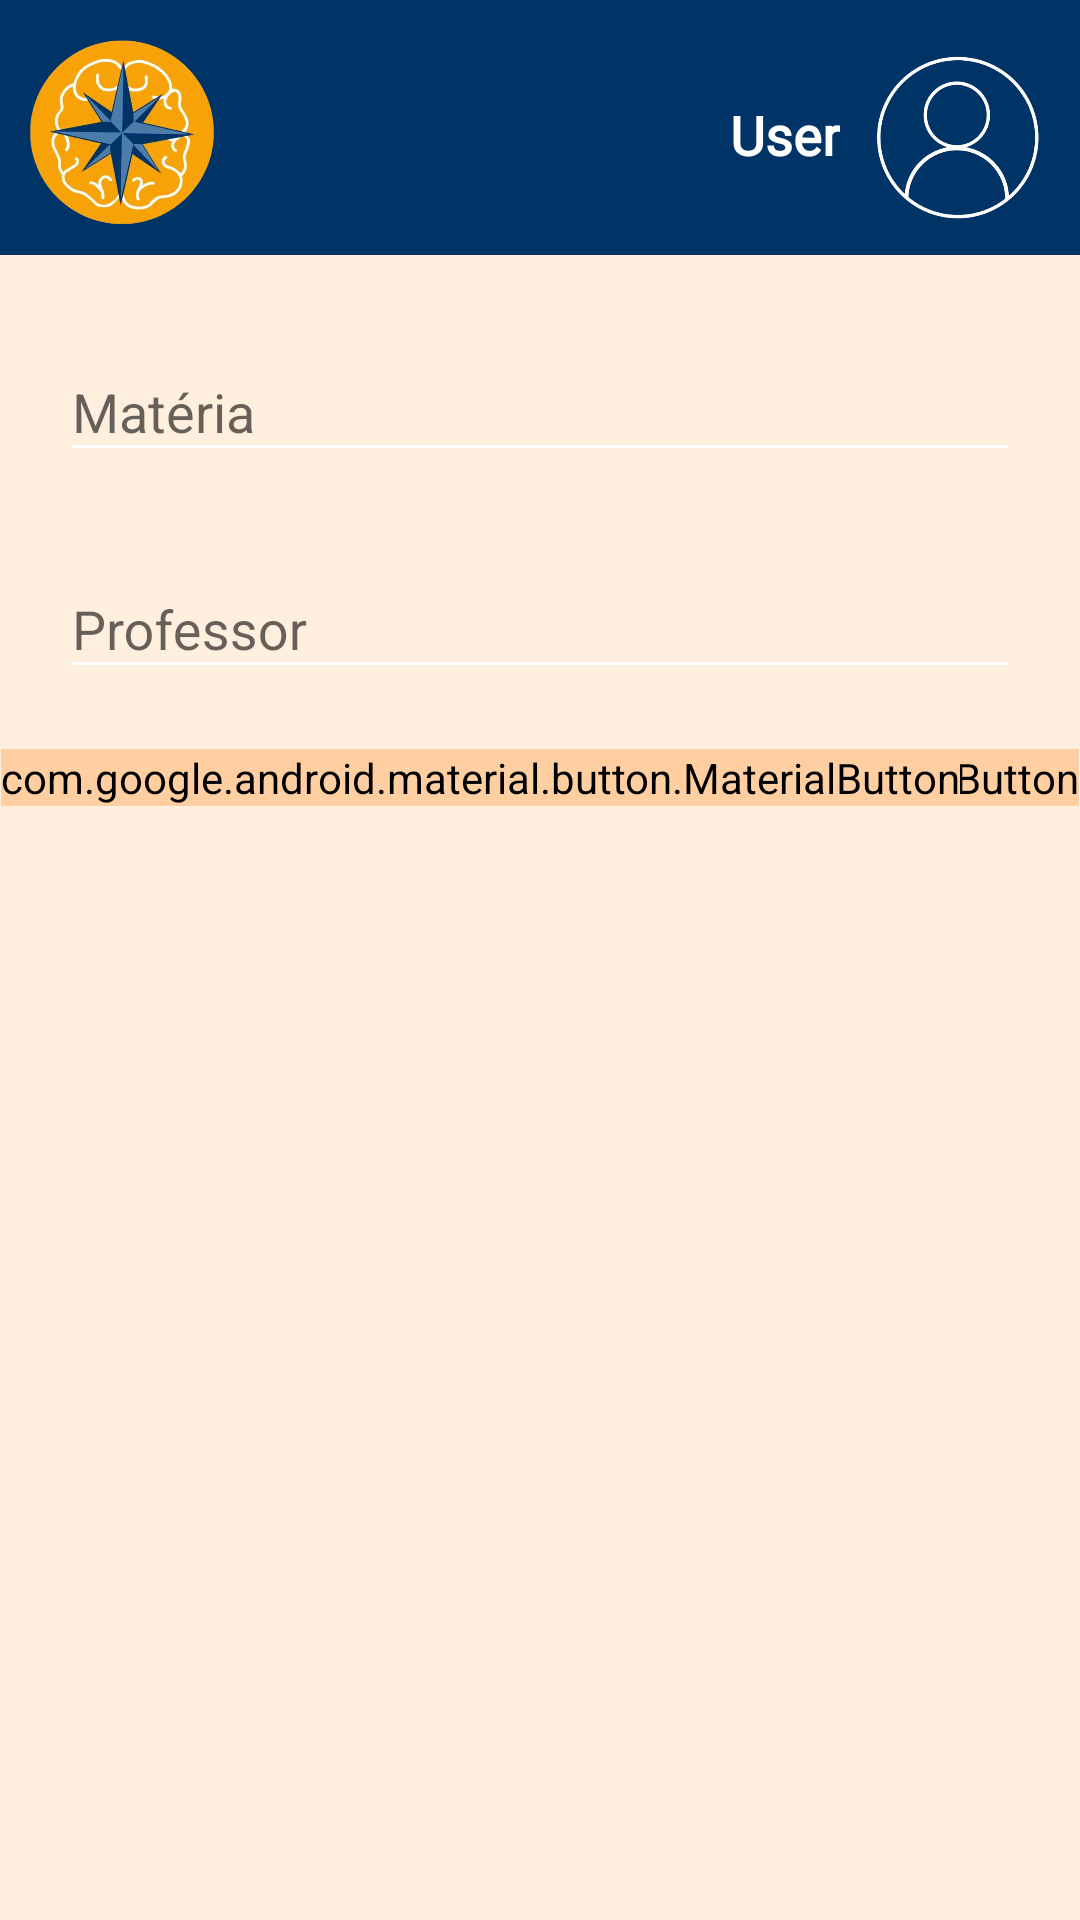

Named icons in this screenshot (1080*1920) and their bounding boxes, [x1=x1, y1=y1, x2=x2, y2=y2]:
perfil: [x1=877, y1=57, x2=1039, y2=219]
